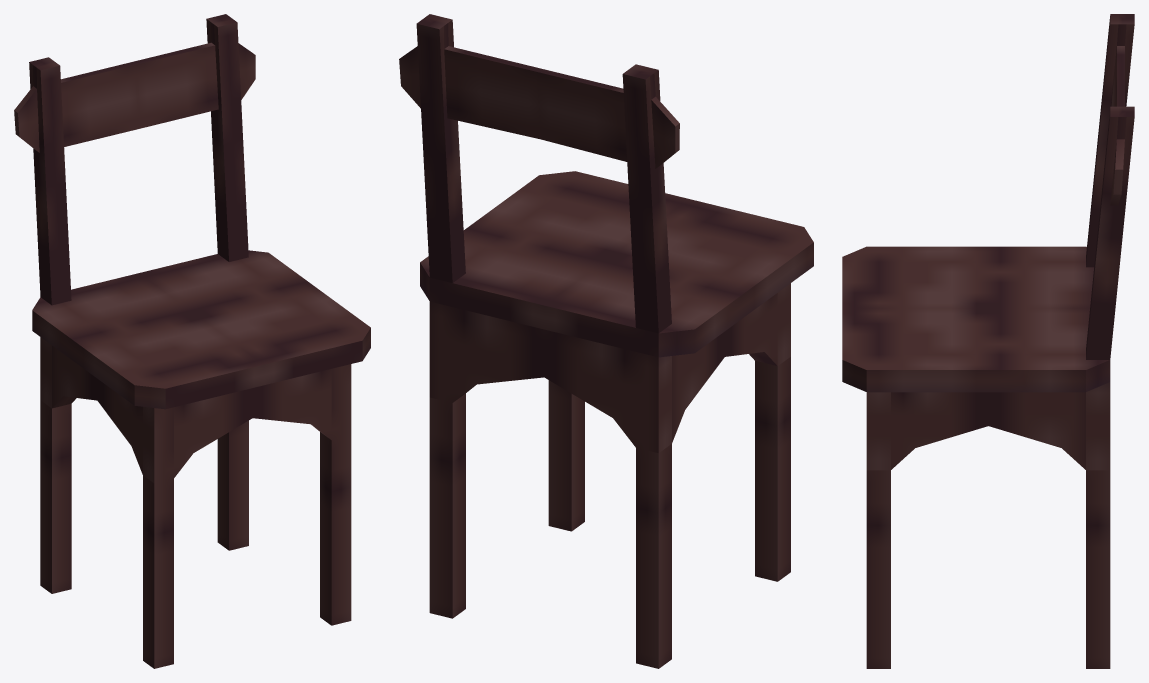
Rendered from Chair.fbx.
3 views of the same model, side by side, from view 1: azimuth 30°, elevation 25°; view 2: azimuth 150°, elevation 25°; view 3: azimuth 270°, elevation 25° (orthographic). The views are drawn at different scales.
Visible parts, largest first — view 1: Cube.005; view 2: Cube.005; view 3: Cube.005.
Boxes of the visible parts, x1=… form: Cube.005: x1=14, y1=14, x2=370, y2=668; Cube.005: x1=399, y1=14, x2=813, y2=668; Cube.005: x1=842, y1=14, x2=1134, y2=668.
Size of the model in its own units: 0.7542 by 0.75 by 1.56.
